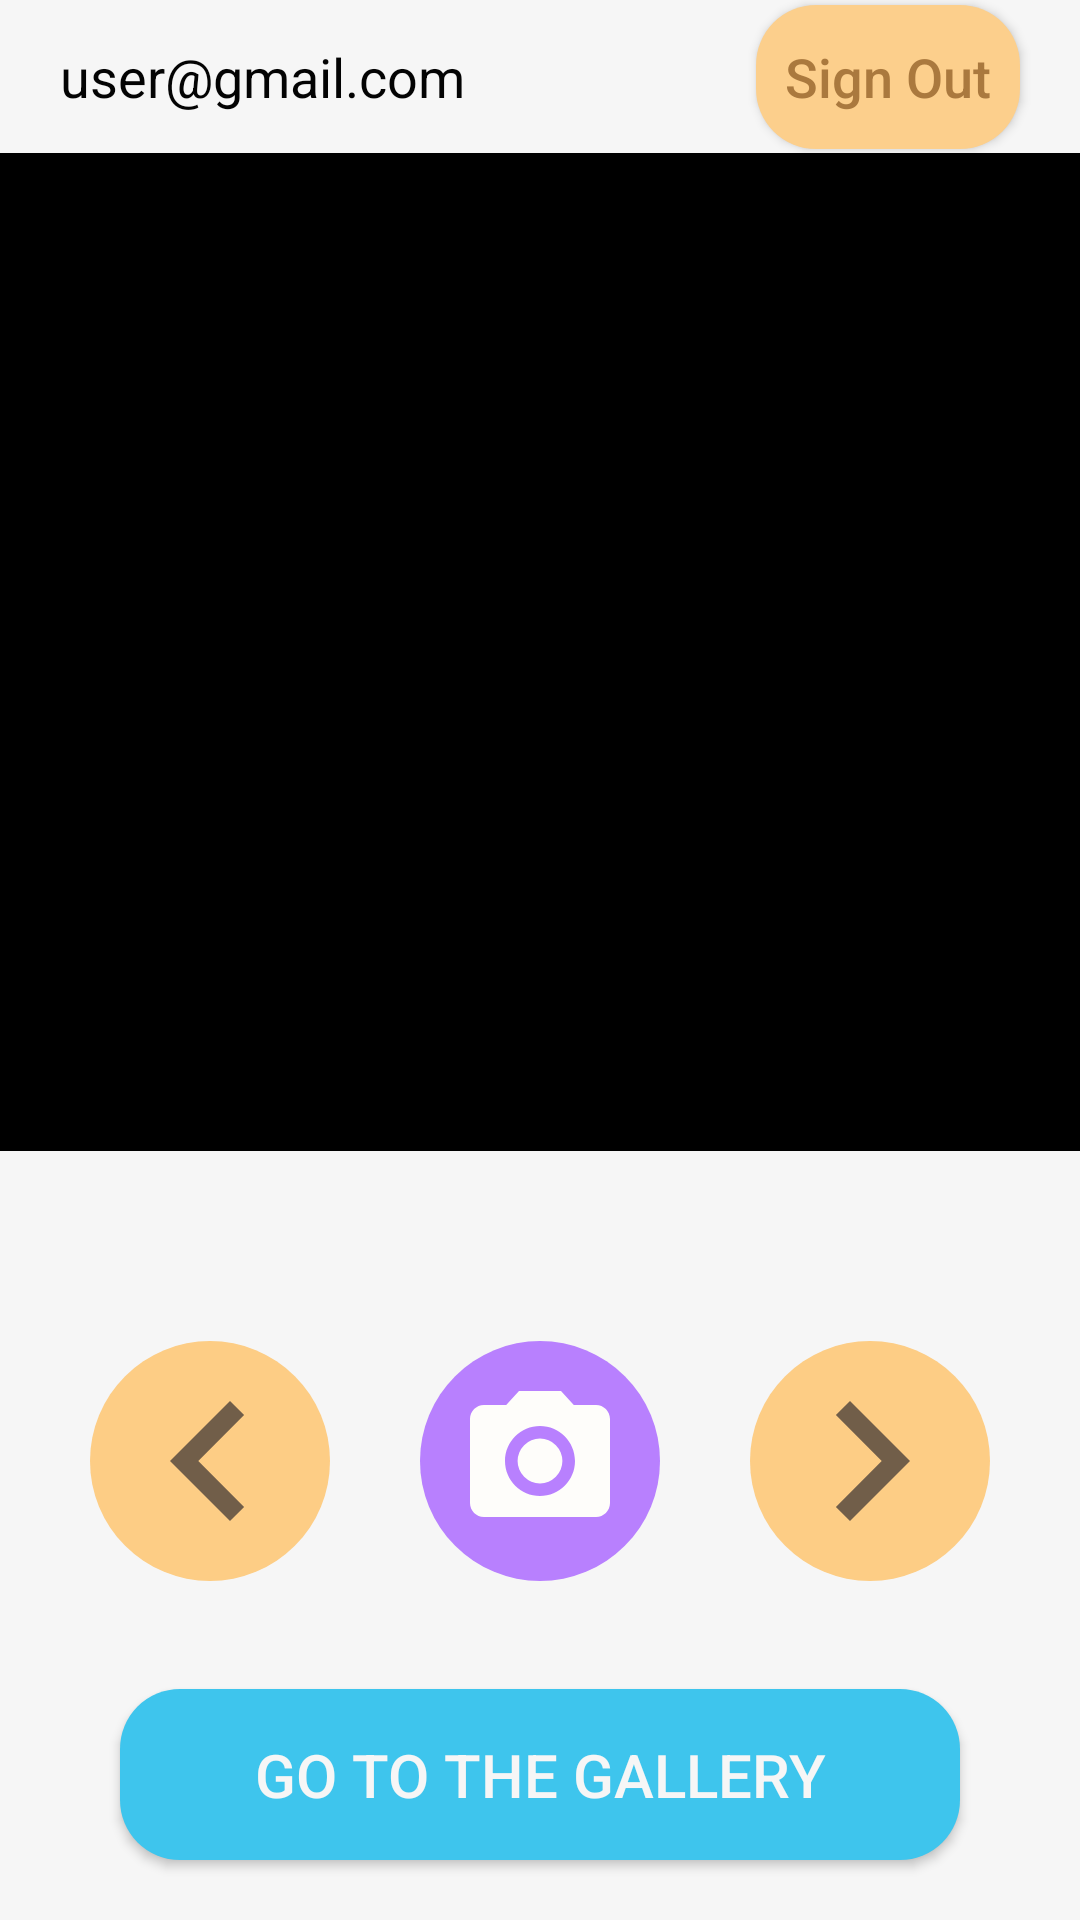

Icons on this 1080 × 1920 Android screen, each with the point to tap as [x,y]:
camera: [540,1461]
left: [210,1461]
right: [870,1461]
